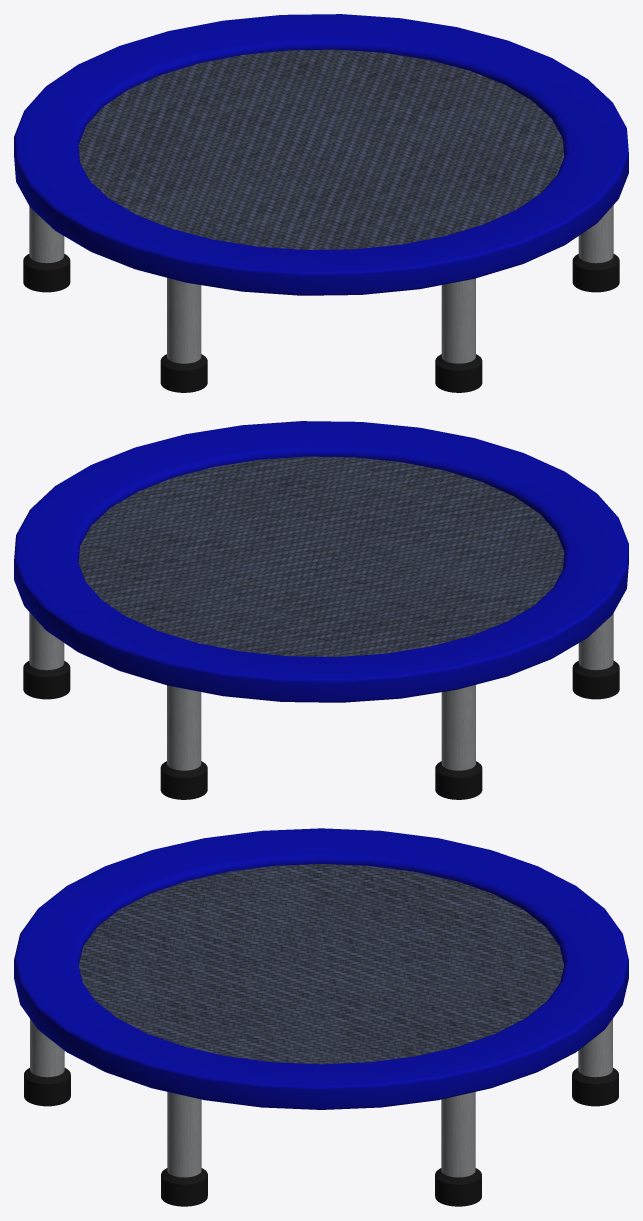
Rendered from Trampoline.fbx.
3 views of the same model, one above another, from view 1: azimuth 30°, elevation 25°; view 2: azimuth 150°, elevation 25°; view 3: azimuth 270°, elevation 25° (orthographic).
Parts seen in each view (by area): view 1: Cylinder.008, Cylinder.001; view 2: Cylinder.008, Cylinder.001; view 3: Cylinder.008, Cylinder.001.
Boxes of the visible parts, box(x1,y1,x2,y2) form: Cylinder.008: box(14, 14, 628, 392); Cylinder.001: box(78, 49, 564, 249); Cylinder.008: box(14, 421, 628, 799); Cylinder.001: box(78, 456, 564, 656); Cylinder.008: box(14, 828, 628, 1206); Cylinder.001: box(78, 864, 564, 1064).
Bounding box in the file's own units: 200 × 50 × 200.
